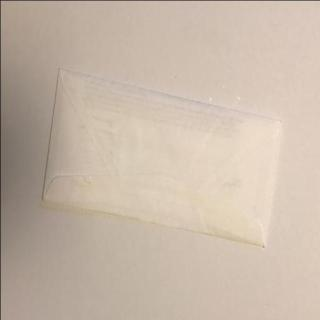Anorganik: (42, 62, 288, 249)
